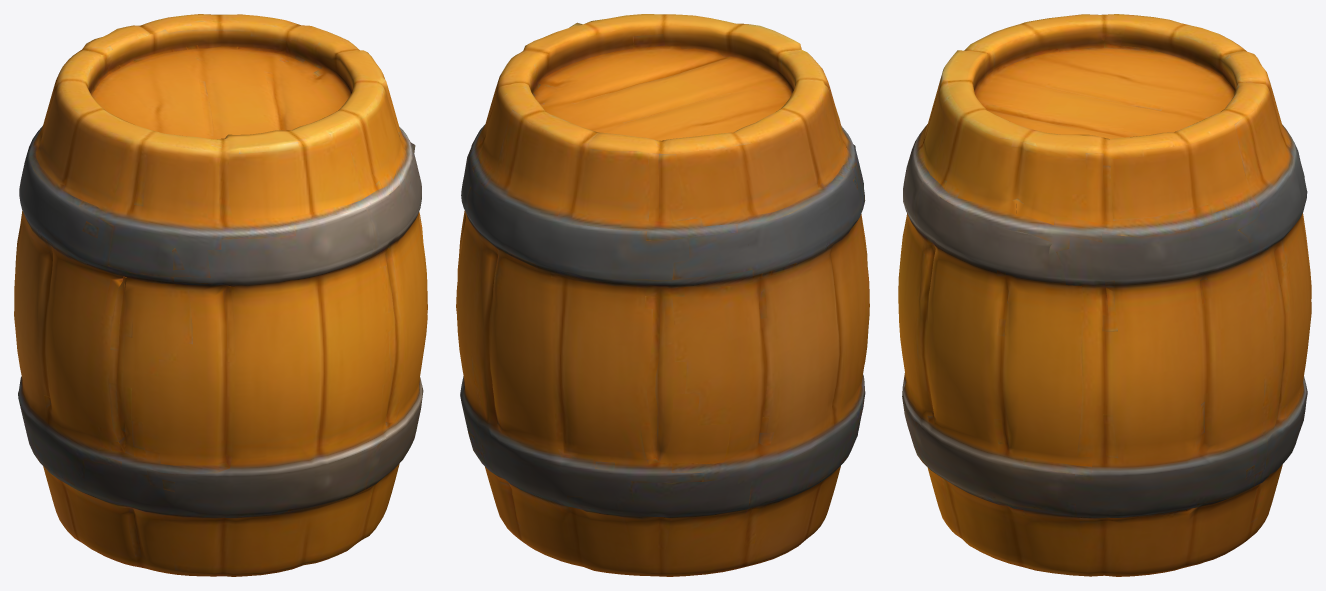
Rendered from barrel.glb.
The picture shows the model from 3 angles, left to right: view 1: azimuth 30°, elevation 25°; view 2: azimuth 150°, elevation 25°; view 3: azimuth 270°, elevation 25°; orthographic projection.
Parts seen in each view (by area): view 1: tripo_node_72e41d1c-b474-4851-96e0-b5ebdd804e07; view 2: tripo_node_72e41d1c-b474-4851-96e0-b5ebdd804e07; view 3: tripo_node_72e41d1c-b474-4851-96e0-b5ebdd804e07.
Part boxes in pixels (x1,y1,x2,y2): tripo_node_72e41d1c-b474-4851-96e0-b5ebdd804e07: [14, 14, 427, 576]; tripo_node_72e41d1c-b474-4851-96e0-b5ebdd804e07: [456, 14, 869, 576]; tripo_node_72e41d1c-b474-4851-96e0-b5ebdd804e07: [898, 14, 1311, 576].
Bounding box in the file's own units: 0.8629 × 0.9994 × 0.8638.
Materials: 1 (1 with a texture image).
